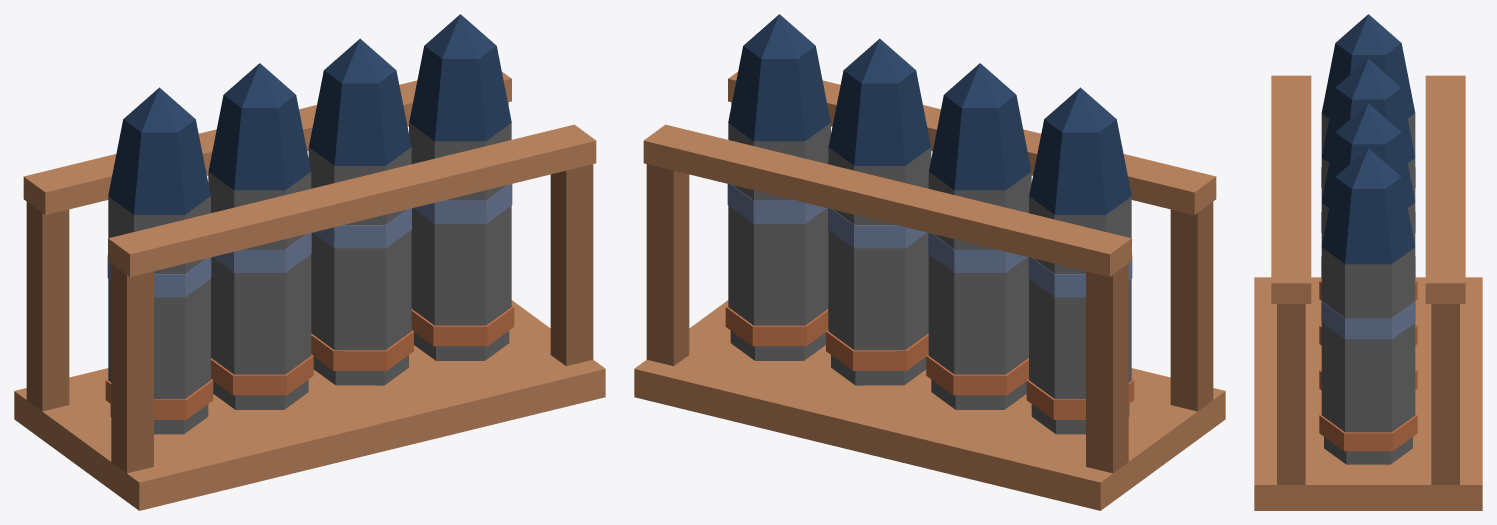
File: ce_ammo_artillery_anti_c.obj
3 views of the same model, side by side, from view 1: azimuth 30°, elevation 25°; view 2: azimuth 150°, elevation 25°; view 3: azimuth 270°, elevation 25° (orthographic). The views are drawn at different scales.
Visible parts, largest first — view 1: ce_ammo_artillery_anti_c_0, ce_ammo_artillery_anti_c_1, ce_ammo_artillery_anti_c_23, ce_ammo_artillery_anti_c_16, ce_ammo_artillery_anti_c_30, ce_ammo_artillery_anti_c_4, ce_ammo_artillery_anti_c_5, ce_ammo_artillery_anti_c_3, ce_ammo_artillery_anti_c_19, ce_ammo_artillery_anti_c_33, ce_ammo_artillery_anti_c_12, ce_ammo_artillery_anti_c_26 (+22 smaller); view 2: ce_ammo_artillery_anti_c_0, ce_ammo_artillery_anti_c_2, ce_ammo_artillery_anti_c_23, ce_ammo_artillery_anti_c_16, ce_ammo_artillery_anti_c_30, ce_ammo_artillery_anti_c_3, ce_ammo_artillery_anti_c_6, ce_ammo_artillery_anti_c_4, ce_ammo_artillery_anti_c_19, ce_ammo_artillery_anti_c_33, ce_ammo_artillery_anti_c_12, ce_ammo_artillery_anti_c_26 (+22 smaller); view 3: ce_ammo_artillery_anti_c_0, ce_ammo_artillery_anti_c_1, ce_ammo_artillery_anti_c_2, ce_ammo_artillery_anti_c_30, ce_ammo_artillery_anti_c_33, ce_ammo_artillery_anti_c_5, ce_ammo_artillery_anti_c_6, ce_ammo_artillery_anti_c_32, ce_ammo_artillery_anti_c_19, ce_ammo_artillery_anti_c_26, ce_ammo_artillery_anti_c_12, ce_ammo_artillery_anti_c_31 (+9 smaller).
Part boxes in pixels (x1,y1,x2,y2): ce_ammo_artillery_anti_c_0: [14, 300, 605, 510]; ce_ammo_artillery_anti_c_1: [108, 124, 596, 276]; ce_ammo_artillery_anti_c_23: [311, 230, 411, 350]; ce_ammo_artillery_anti_c_16: [211, 254, 311, 374]; ce_ammo_artillery_anti_c_30: [411, 205, 511, 325]; ce_ammo_artillery_anti_c_4: [26, 202, 69, 411]; ce_ammo_artillery_anti_c_5: [550, 164, 593, 366]; ce_ammo_artillery_anti_c_3: [111, 263, 153, 473]; ce_ammo_artillery_anti_c_19: [208, 95, 310, 190]; ce_ammo_artillery_anti_c_33: [409, 46, 511, 141]; ce_ammo_artillery_anti_c_12: [108, 119, 210, 214]; ce_ammo_artillery_anti_c_26: [309, 70, 411, 165]; ce_ammo_artillery_anti_c_0: [634, 300, 1225, 510]; ce_ammo_artillery_anti_c_2: [643, 124, 1131, 276]; ce_ammo_artillery_anti_c_23: [828, 230, 928, 350]; ce_ammo_artillery_anti_c_16: [928, 254, 1028, 374]; ce_ammo_artillery_anti_c_30: [728, 205, 828, 325]; ce_ammo_artillery_anti_c_3: [1170, 202, 1213, 411]; ce_ammo_artillery_anti_c_6: [646, 164, 689, 366]; ce_ammo_artillery_anti_c_4: [1086, 263, 1128, 473]; ce_ammo_artillery_anti_c_19: [929, 95, 1031, 190]; ce_ammo_artillery_anti_c_33: [728, 46, 830, 141]; ce_ammo_artillery_anti_c_12: [1029, 119, 1131, 214]; ce_ammo_artillery_anti_c_26: [828, 70, 930, 165]; ce_ammo_artillery_anti_c_0: [1254, 277, 1482, 510]; ce_ammo_artillery_anti_c_1: [1271, 75, 1311, 303]; ce_ammo_artillery_anti_c_2: [1425, 75, 1465, 303]; ce_ammo_artillery_anti_c_30: [1321, 323, 1415, 432]; ce_ammo_artillery_anti_c_33: [1321, 177, 1415, 264]; ce_ammo_artillery_anti_c_5: [1277, 304, 1305, 484]; ce_ammo_artillery_anti_c_6: [1431, 304, 1459, 484]; ce_ammo_artillery_anti_c_32: [1321, 247, 1415, 318]; ce_ammo_artillery_anti_c_19: [1321, 88, 1415, 162]; ce_ammo_artillery_anti_c_26: [1321, 132, 1415, 207]; ce_ammo_artillery_anti_c_12: [1321, 43, 1415, 118]; ce_ammo_artillery_anti_c_31: [1321, 301, 1415, 339].
Size of the model in its own units: 0.86 by 0.63 by 0.4.
